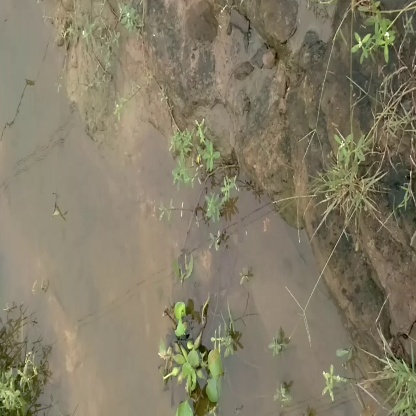leaf: (166, 333, 213, 394)
